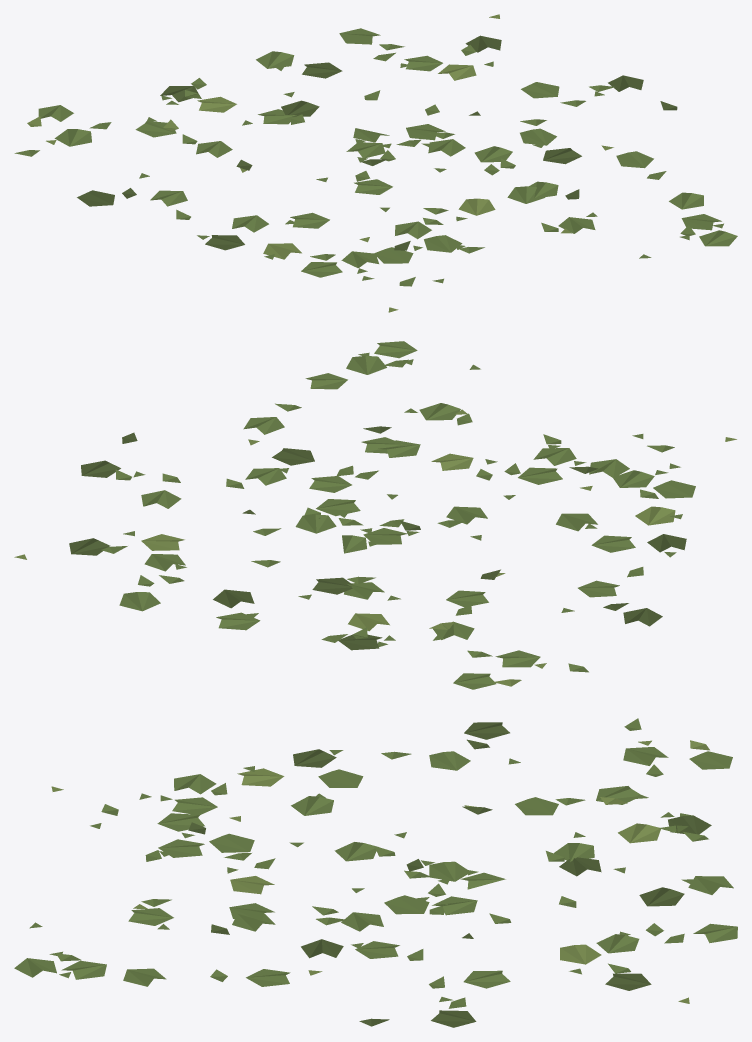
File: Leaves_03.fbx
3 views of the same model, one above another, from view 1: azimuth 30°, elevation 25°; view 2: azimuth 150°, elevation 25°; view 3: azimuth 270°, elevation 25° (orthographic). The views are drawn at different scales.
Parts seen in each view (by area): view 1: Leaves_03; view 2: Leaves_03; view 3: Leaves_03.
Boxes of the visible parts, <box> form: Leaves_03: <box>14,14,737,312</box>; Leaves_03: <box>14,341,736,689</box>; Leaves_03: <box>14,718,737,1027</box>.
Bounding box in the file's own units: 2.76 × 0.0137 × 2.75.
